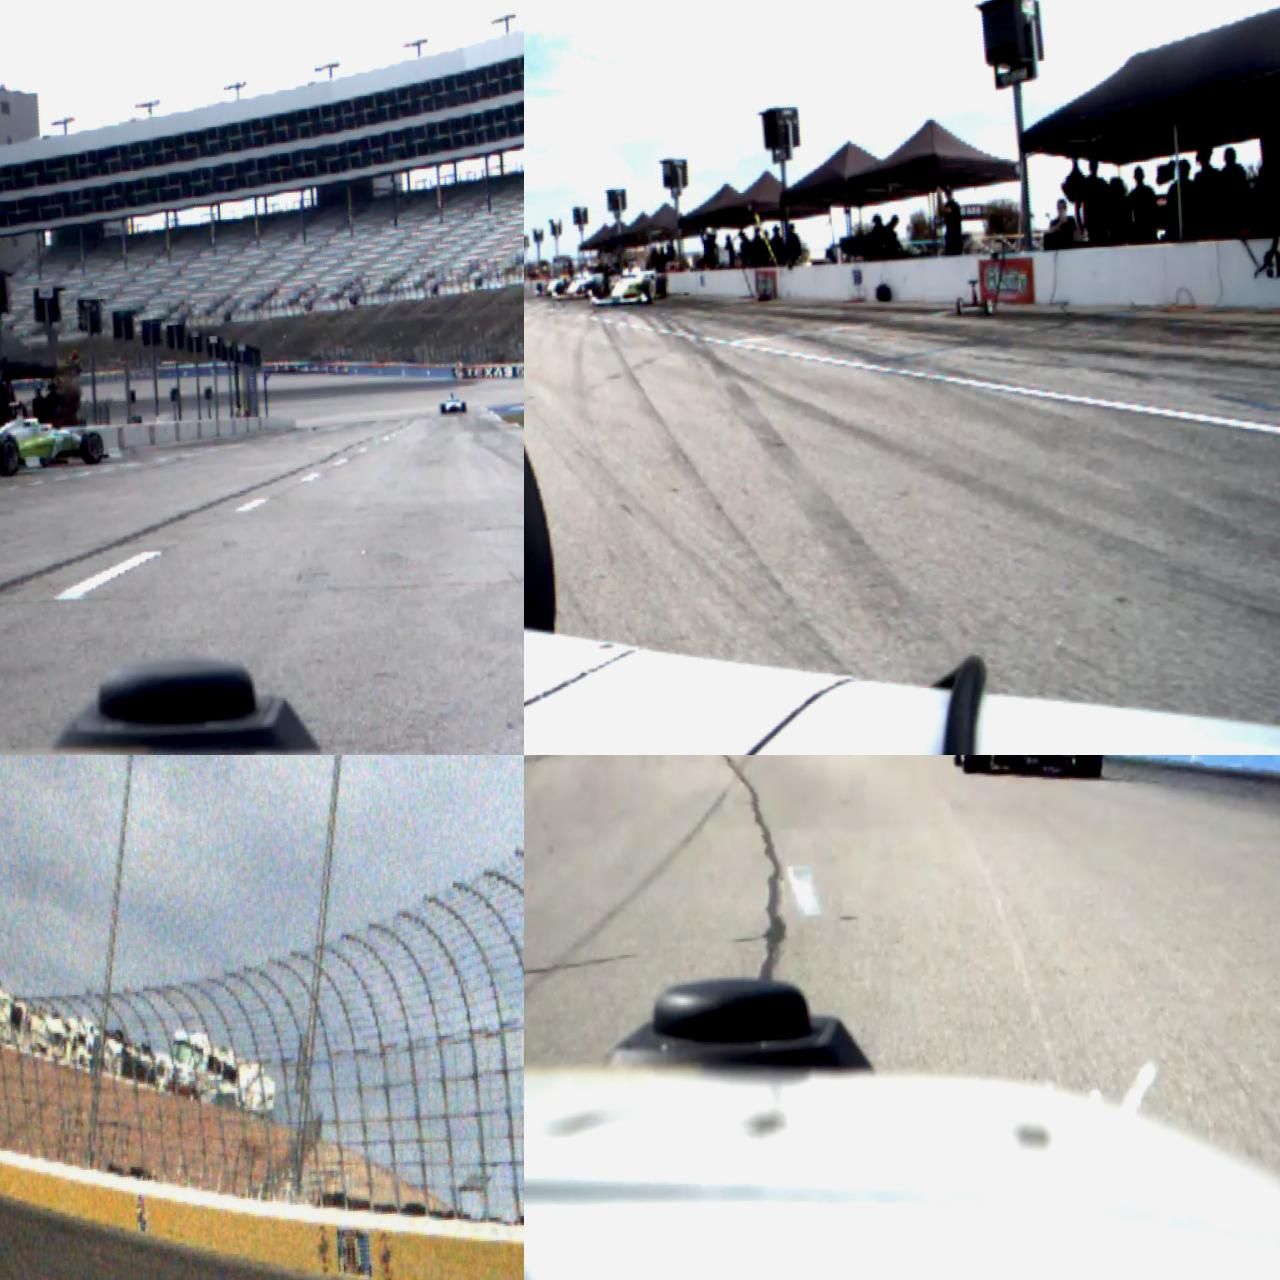AV: (0, 396, 105, 481), (947, 755, 1103, 787), (586, 256, 669, 307), (550, 266, 611, 301), (438, 390, 467, 414)
Wheel: (0, 435, 20, 477), (1073, 755, 1103, 779), (81, 431, 103, 464), (961, 755, 993, 775), (951, 755, 976, 765), (656, 274, 668, 297), (641, 278, 652, 302), (440, 402, 445, 414), (461, 402, 467, 413)
